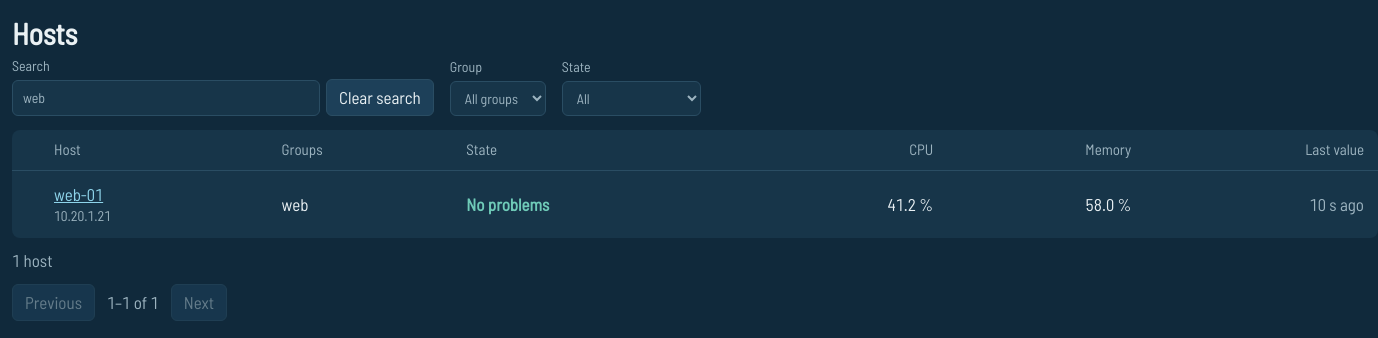
Test: search, group and state › clears the search with its button
Expected: the search field labelled "Search" holds "web", [12,80,320,116]
What coordinates should you click on to do the following:
click the button "Clear search"
I would click on:
 (380, 98)
Its box is [326,80,434,116].
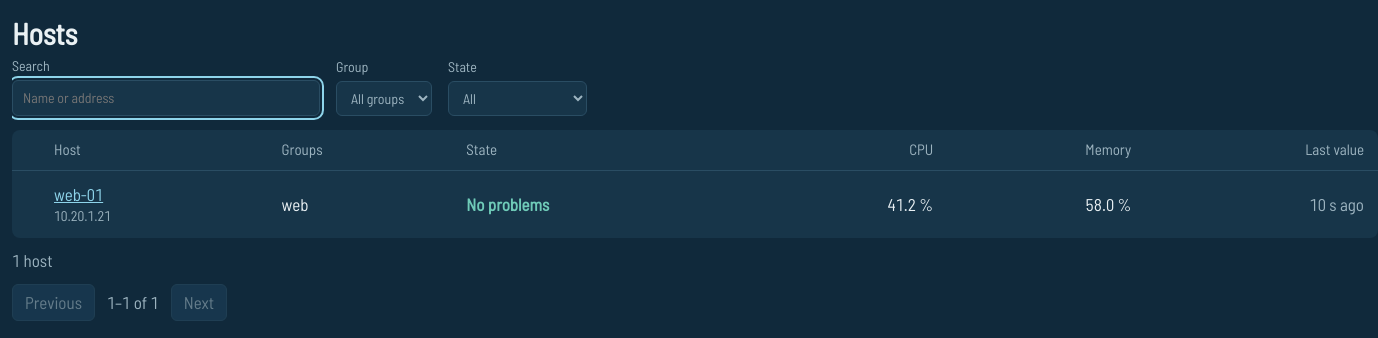
Now the button "Clear search" is gone
